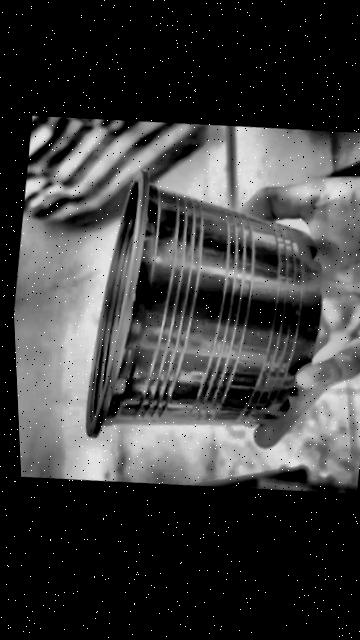pot: (87, 169, 321, 434)
